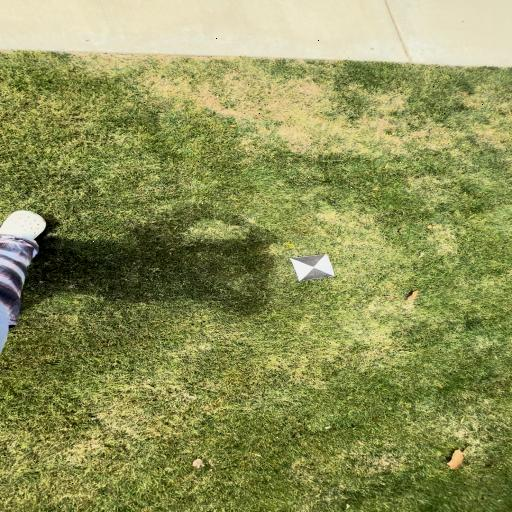target: (289, 254, 335, 281)
